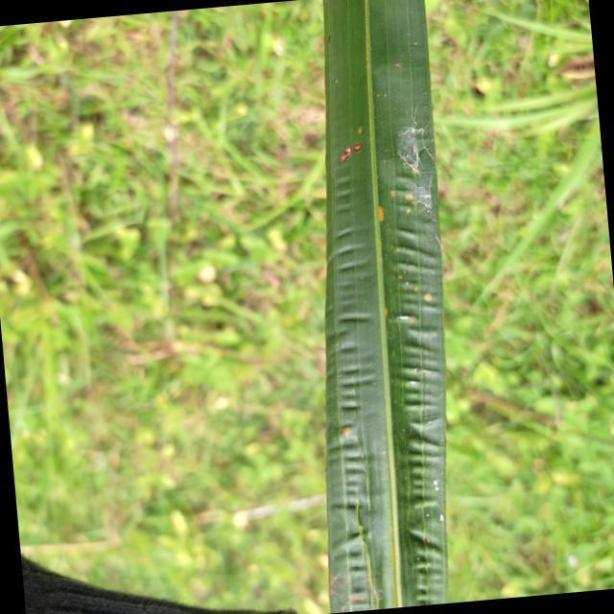Boron: (318, 0, 450, 614)
